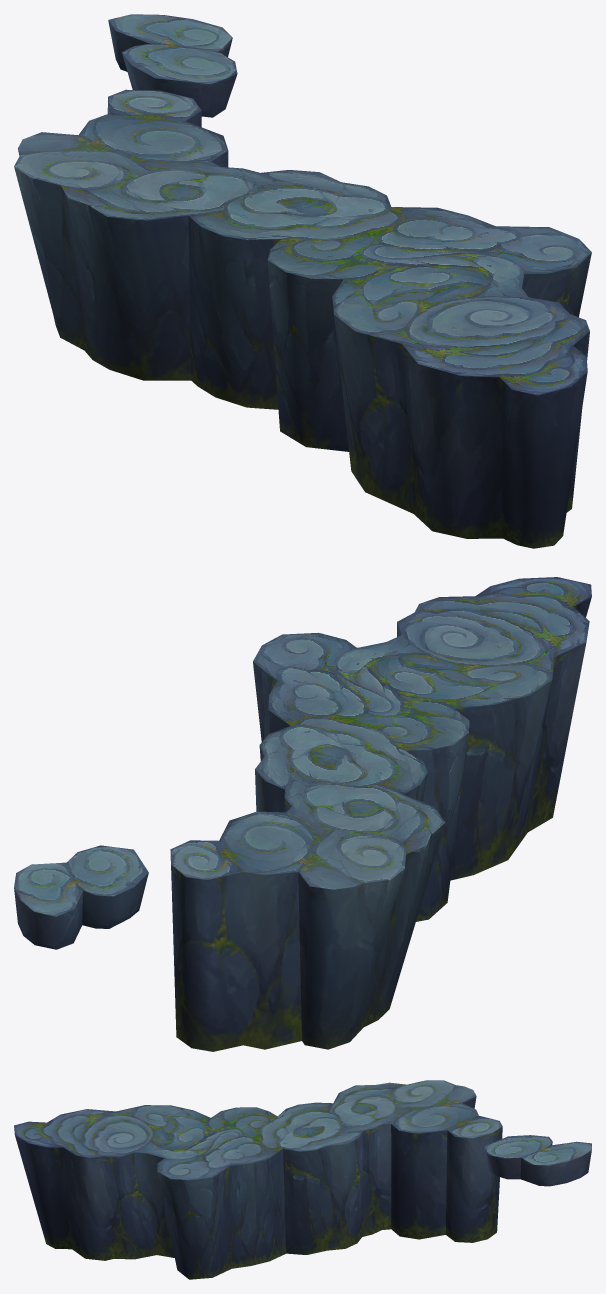
File: fb_tys_wj_04.FBX
3 renders of one model, top to bottom at view 1: azimuth 30°, elevation 25°; view 2: azimuth 150°, elevation 25°; view 3: azimuth 270°, elevation 25°, orthographic. The views are drawn at different scales.
Visible parts, largest first — view 1: fb_tys_wj_04; view 2: fb_tys_wj_04; view 3: fb_tys_wj_04.
Part boxes in pixels (bbox=[...]): fb_tys_wj_04: bbox=[14, 14, 591, 548]; fb_tys_wj_04: bbox=[14, 577, 591, 1051]; fb_tys_wj_04: bbox=[14, 1080, 591, 1279].
Size of the model in its own units: 507 by 252 by 1238.
